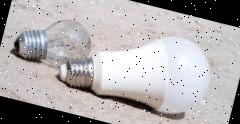lightbulb: (54, 10, 218, 122), (10, 8, 96, 74)
